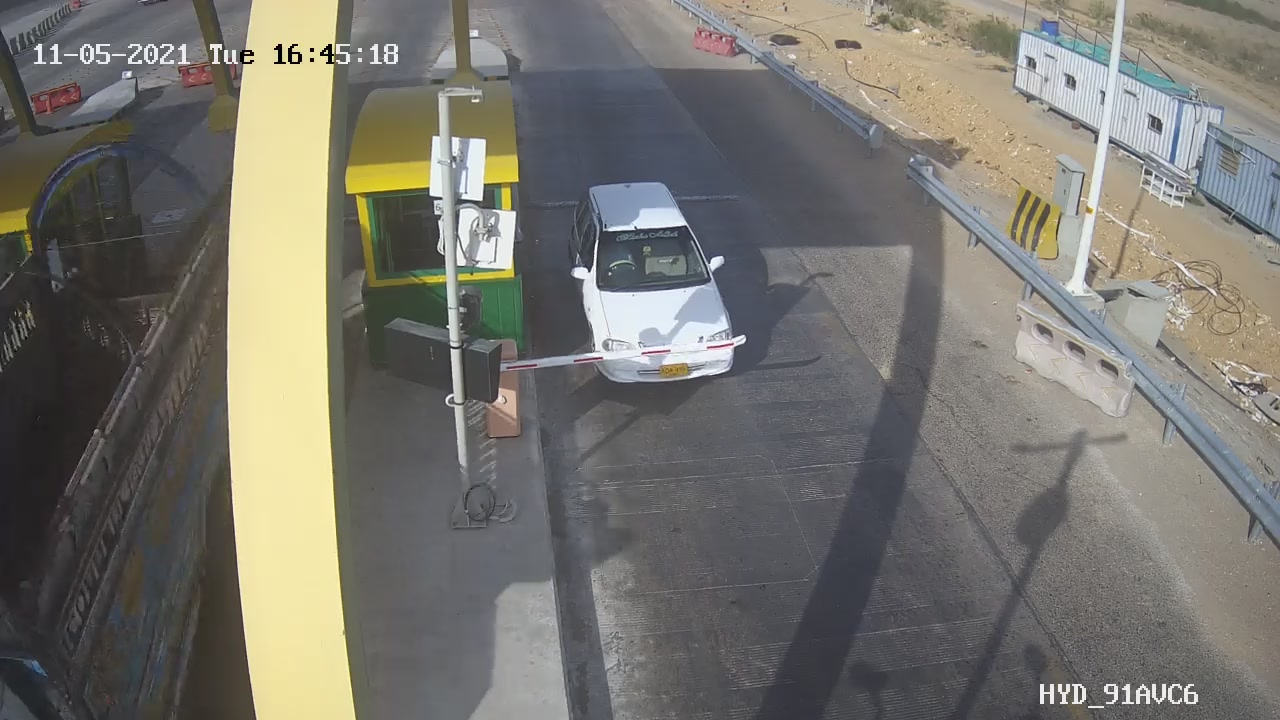F1: (546, 166, 764, 398)
